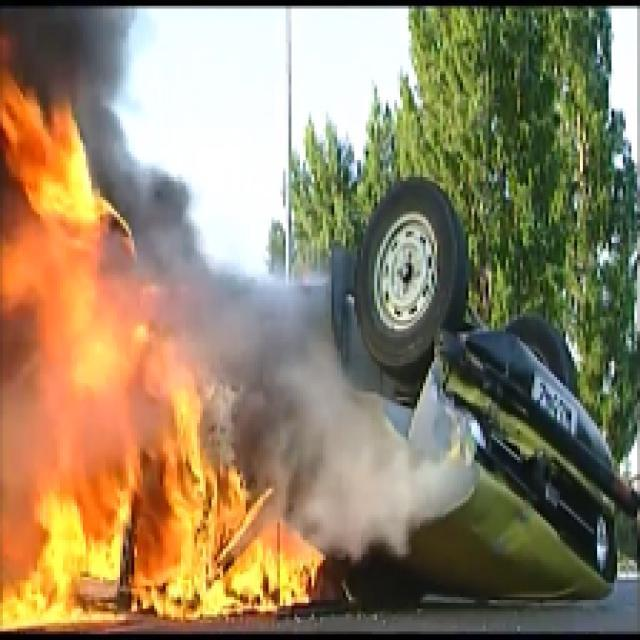Fire: (3, 122, 118, 614), (125, 470, 268, 582)
Smoke: (301, 414, 422, 536), (195, 276, 328, 382)
